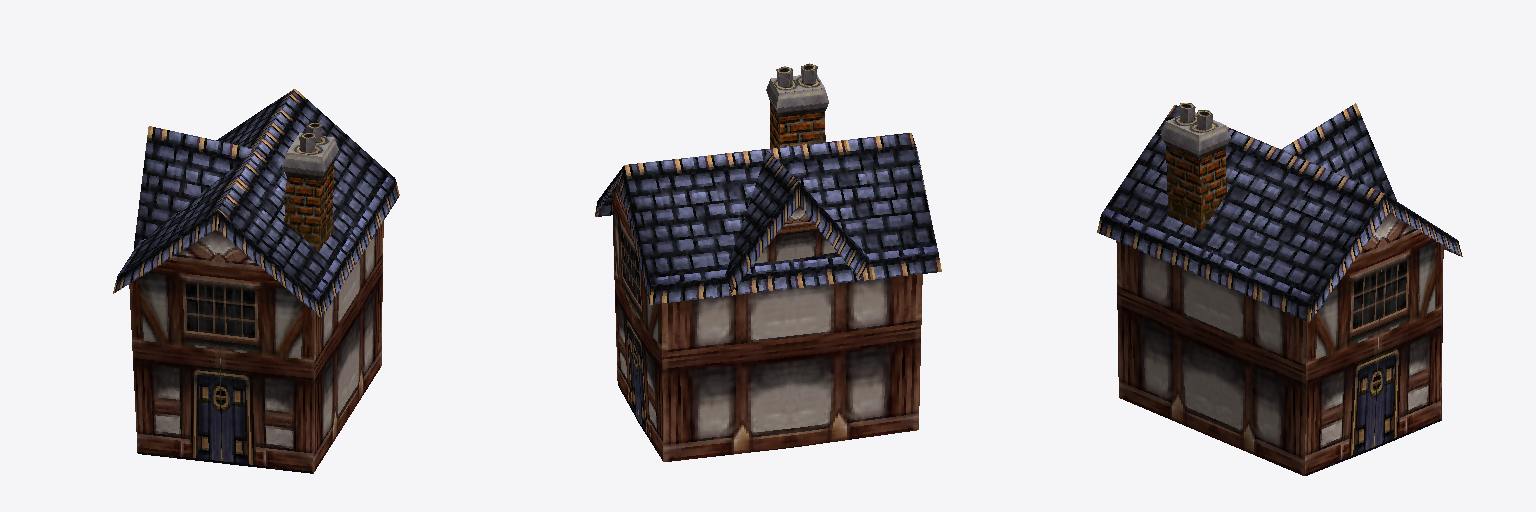
3 renders of one model, left to right at view 1: azimuth 30°, elevation 25°; view 2: azimuth 150°, elevation 25°; view 3: azimuth 270°, elevation 25°, orthographic.
Parts seen in each view (by area): view 1: Converted_object_1(m0); view 2: Converted_object_1(m0); view 3: Converted_object_1(m0).
Boxes of the visible parts, x1,y1,x2,y2 form: Converted_object_1(m0): [113, 89, 399, 473]; Converted_object_1(m0): [595, 63, 941, 461]; Converted_object_1(m0): [1097, 103, 1462, 475].
Size of the model in its own units: 9.26 by 8.55 by 9.26.
1 materials, 1 textured.